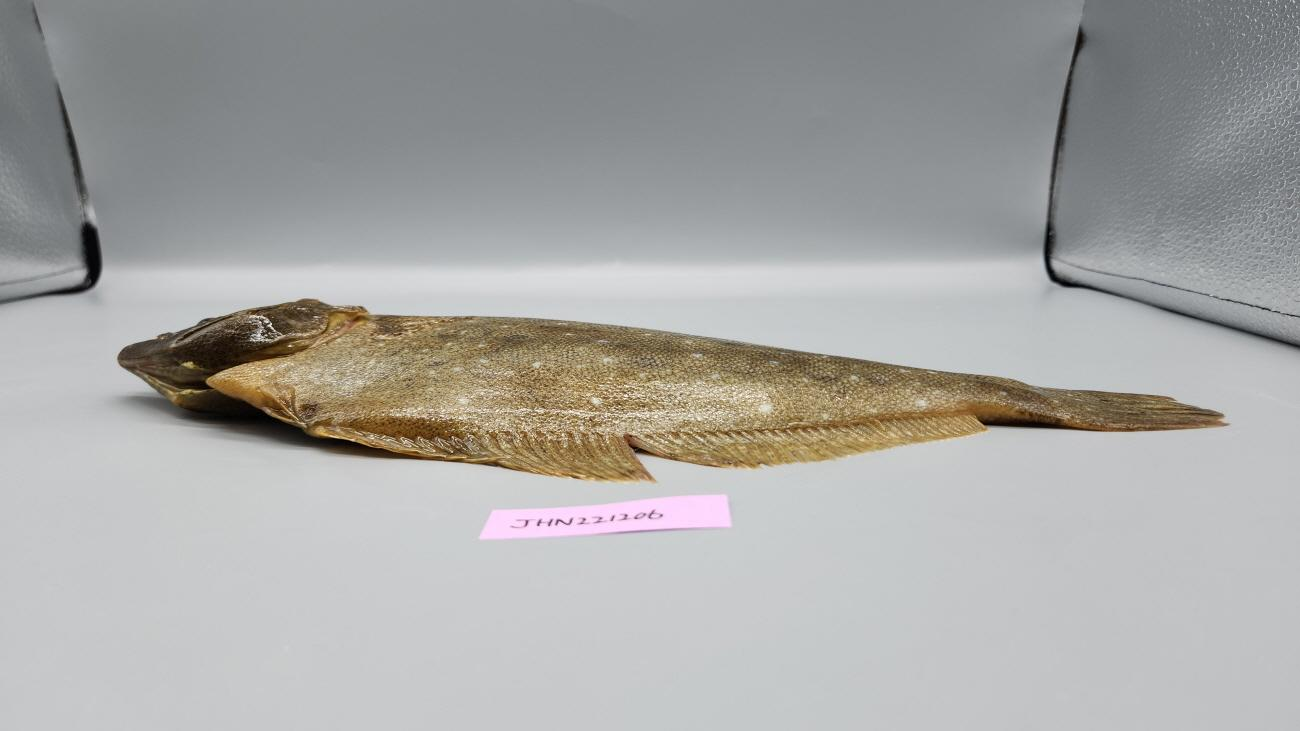POOUN: (114, 298, 1234, 485)
